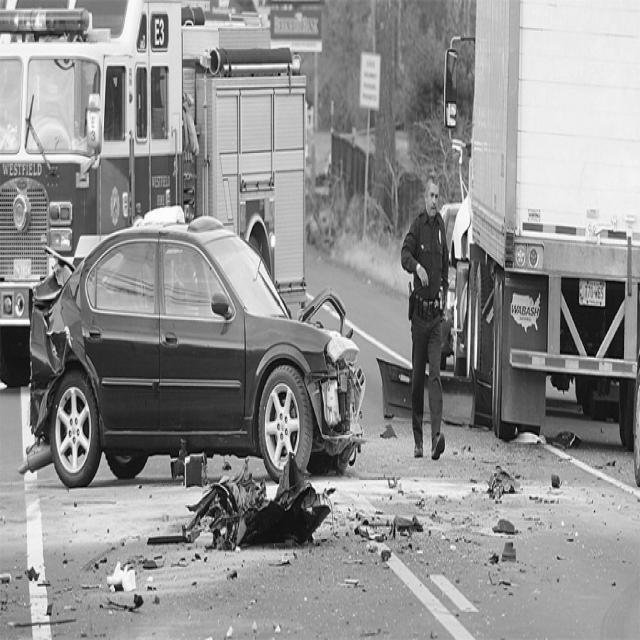crush: (28, 246, 96, 438), (298, 286, 367, 469)
